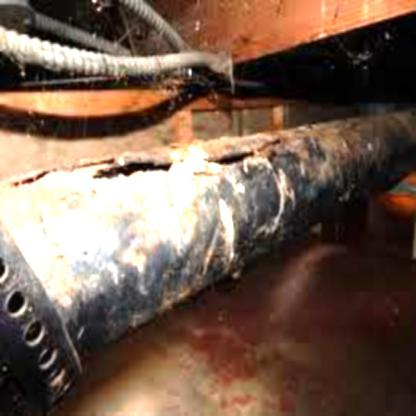burst: (208, 130, 273, 179), (100, 156, 185, 186)
